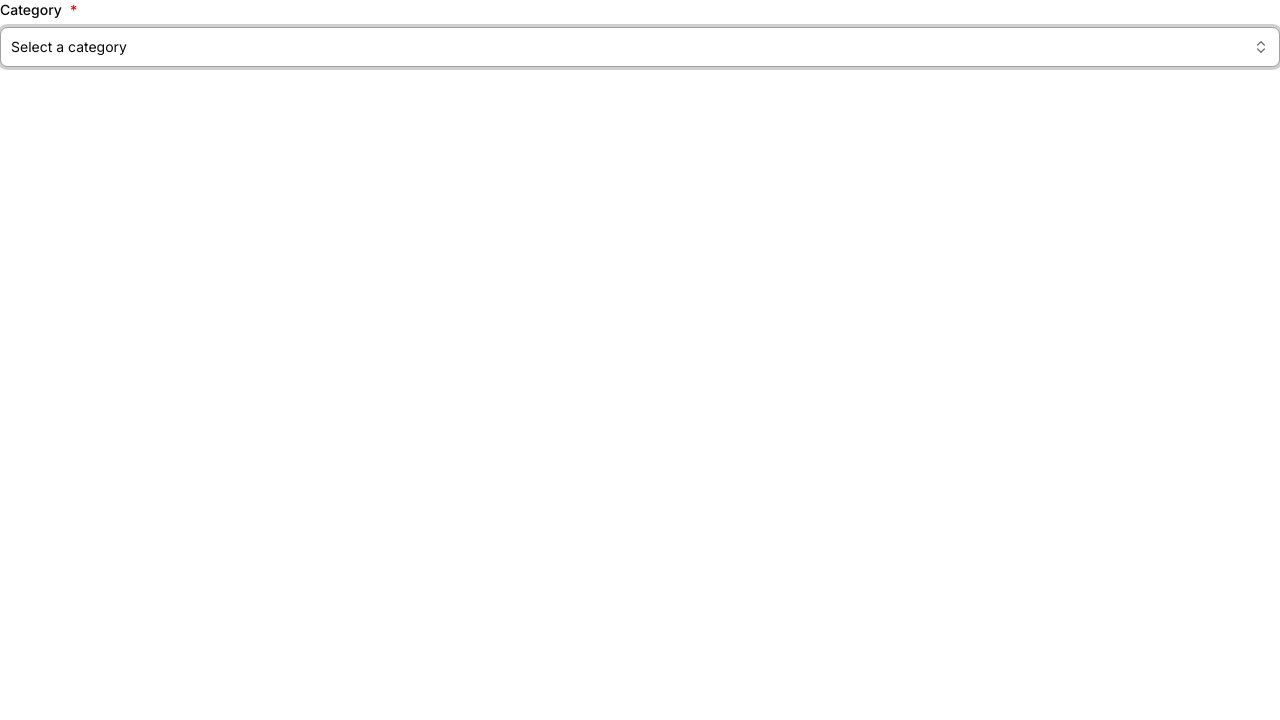
Scenario: active category selector › paginates on the server, resets search to page one and supports keyboard selection
Later steps or results of the test are not shown.
Step 1. Press Enter
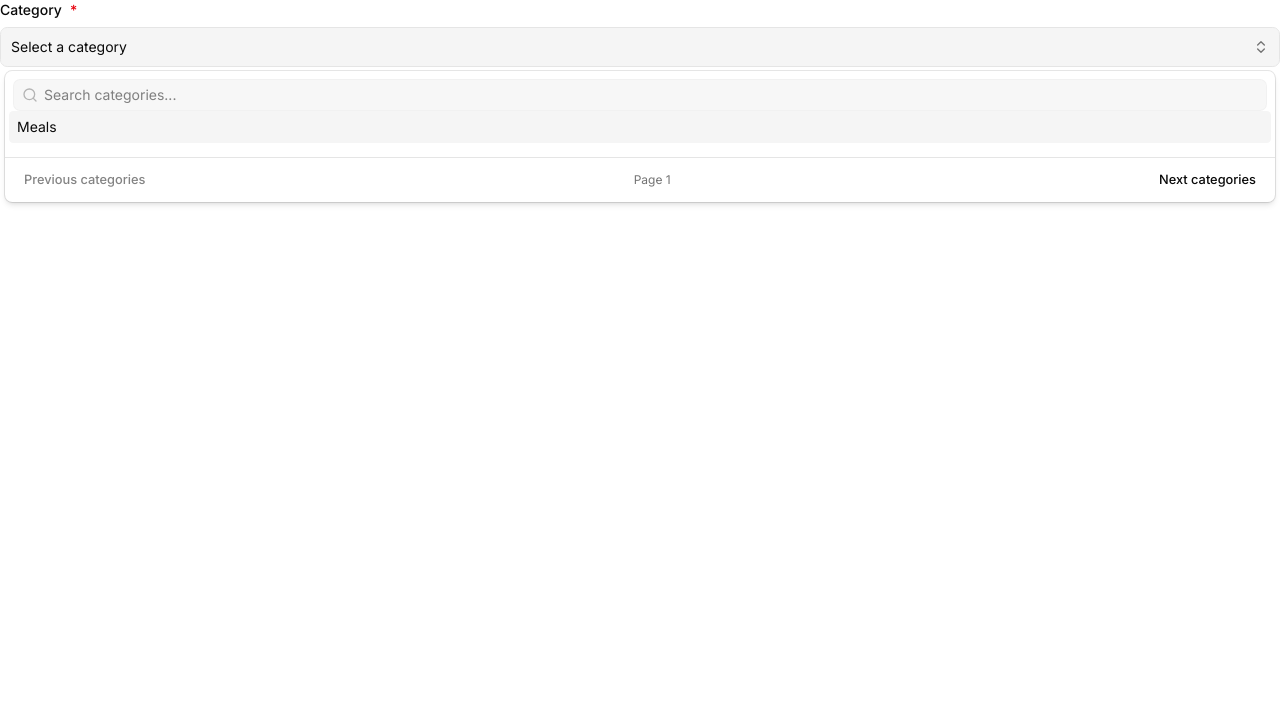
Result: the option "Meals" is shown at [9,111,1271,143]
Step 2. Click the button "Next categories" → (1208, 180), box [1148,166,1267,194]
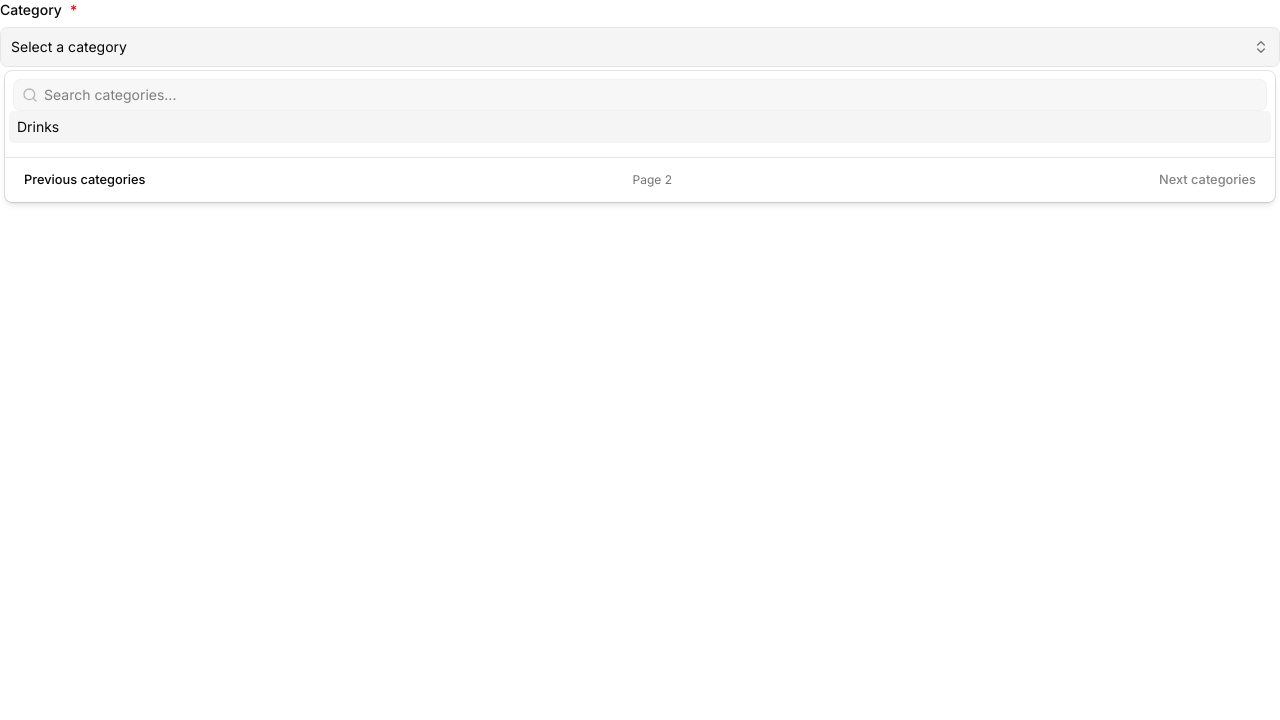
Result: the option "Drinks" is shown at [9,111,1271,143]
Step 3. Type "Drink" into the dropdown labelled "Search categories" → (652, 95), box [38,85,1266,105]
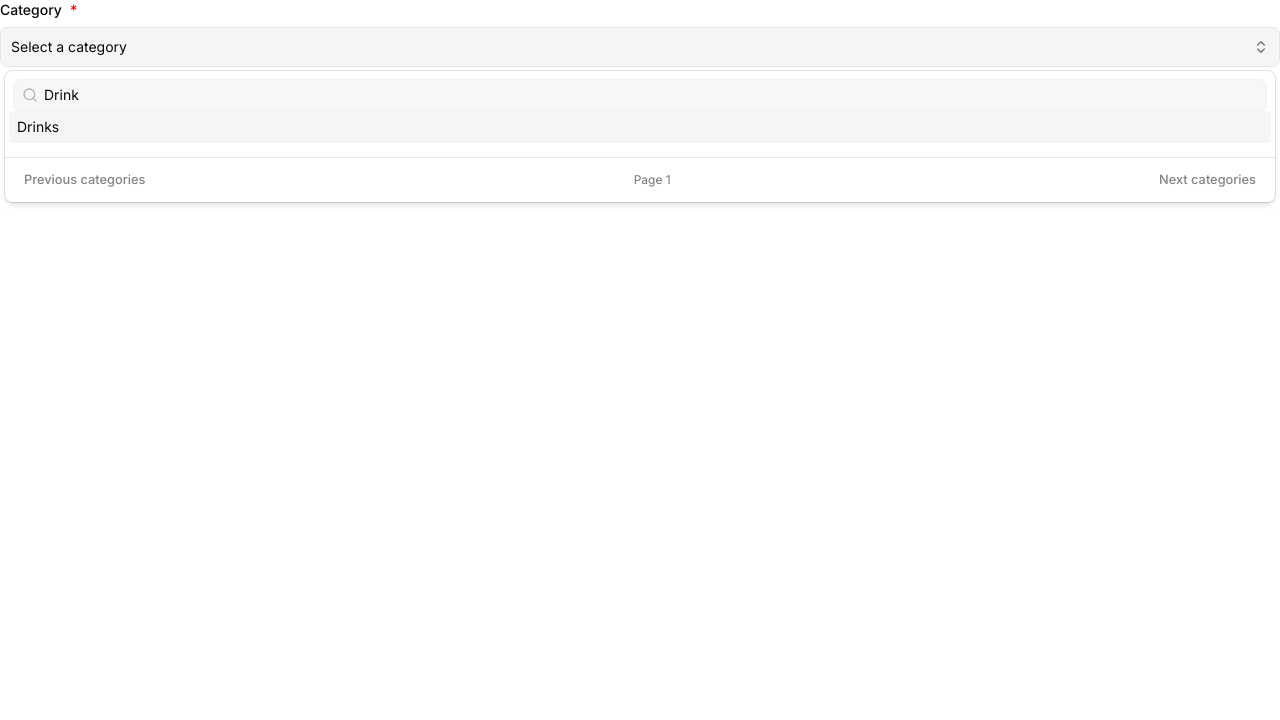
Result: the option "Drinks" is shown at [9,111,1271,143]
